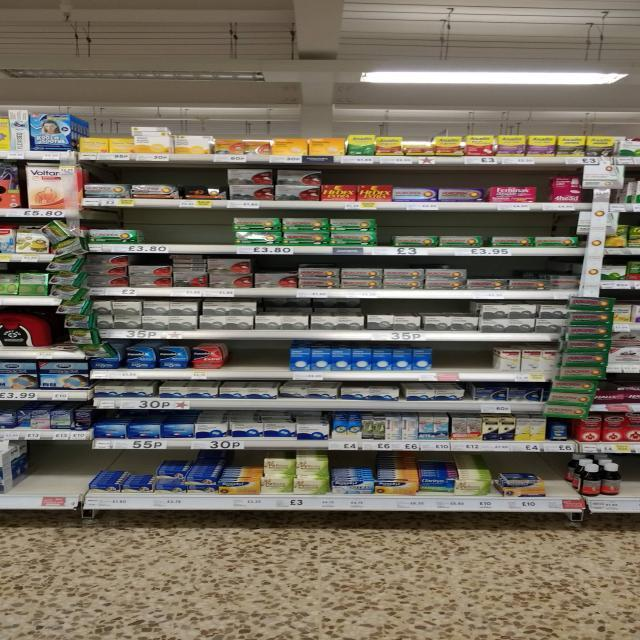empty: (141, 210, 232, 252), (35, 442, 88, 509), (229, 342, 289, 378), (436, 343, 490, 381), (546, 455, 568, 510), (623, 456, 640, 512)
